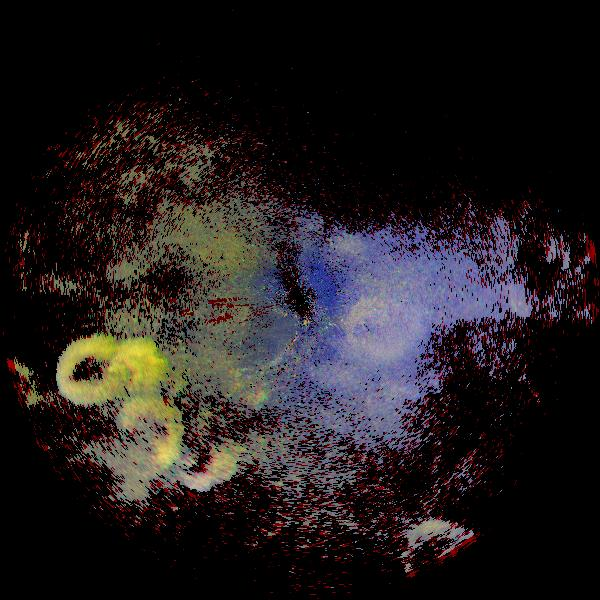roost: (83, 378, 203, 498), (322, 265, 439, 382), (145, 400, 256, 511), (42, 320, 144, 422), (91, 324, 181, 414)
